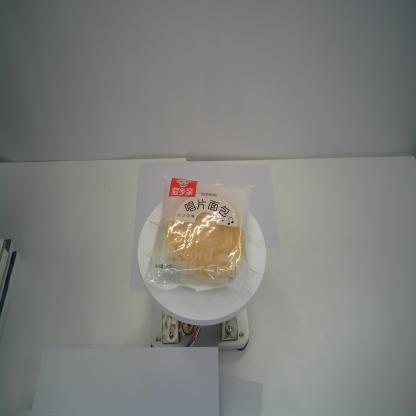Dessert: (141, 172, 260, 303)
